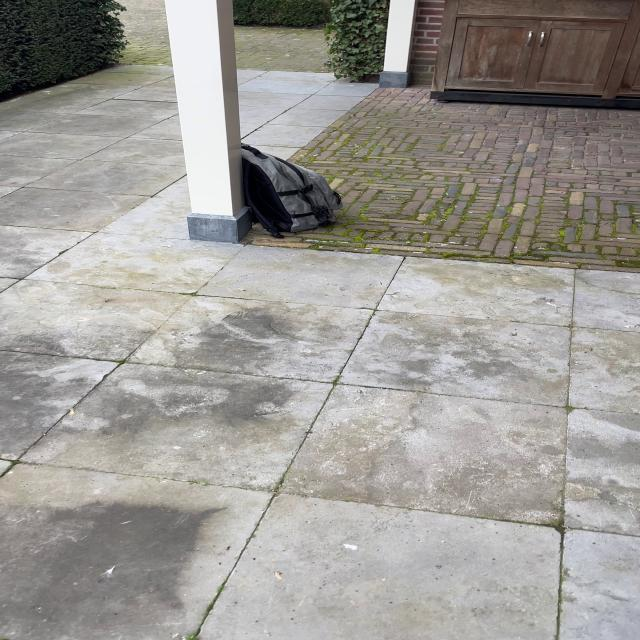backpack: (229, 141, 347, 241)
